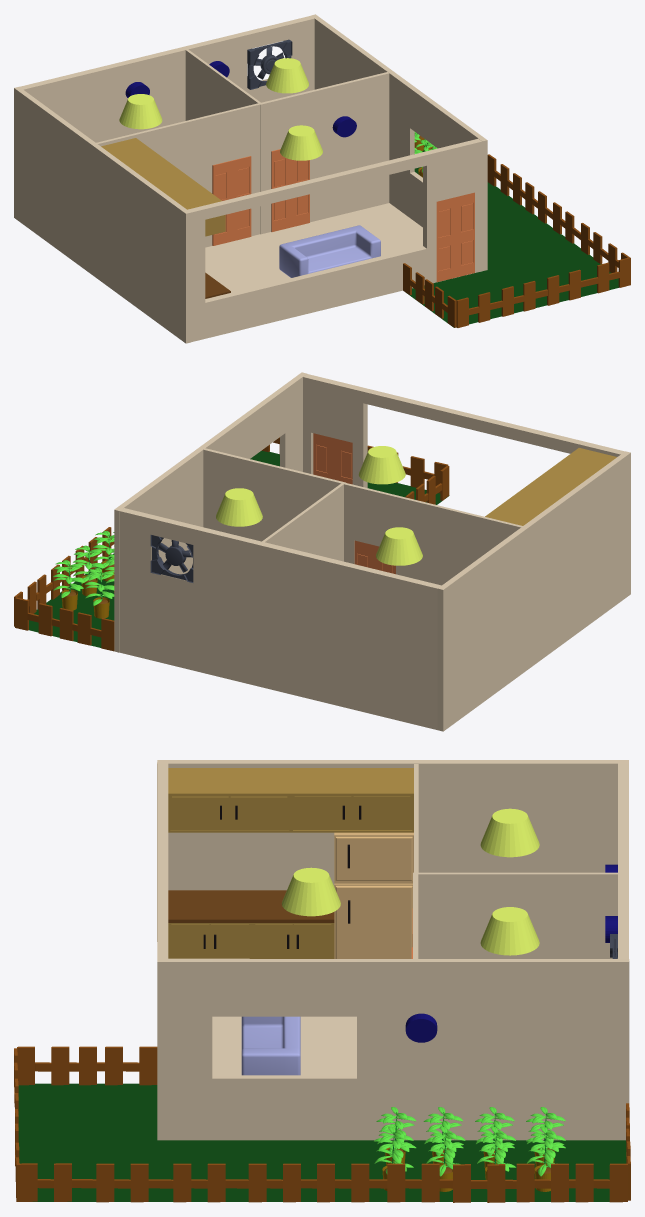
3 views of the same model, one above another, from view 1: azimuth 30°, elevation 25°; view 2: azimuth 150°, elevation 25°; view 3: azimuth 270°, elevation 25° (orthographic). The views are drawn at different scales.
Visible parts, largest first — view 1: wall, Cube.003, fence, sofa, Cube.009, doorLiving, doorBed, doorBath, LightBath, lightBed, lightLiving, Circle; view 2: wall, fence, Cube.009, Cube.003, doorLiving, lightLiving, LightBath, lightBed, tree4, tree8, Circle, doorBed (+3 smaller); view 3: wall, Cube.003, fence, Cube.009, Cube.028, Cube.023, sofa, lightBed, LightBath, lightLiving, tree8, tree6 (+7 smaller).
Boxes of the visible parts, x1,y1,x2,y2 form: wall: (14, 14, 487, 343); Cube.003: (407, 143, 618, 327); fence: (403, 154, 630, 327); sofa: (279, 225, 380, 277); Cube.009: (101, 138, 225, 236); doorLiving: (436, 192, 474, 282); doorBed: (212, 156, 251, 245); doorBath: (271, 149, 309, 231); LightBath: (266, 58, 308, 93); lightBed: (119, 94, 162, 129); lightLiving: (280, 125, 322, 160); Circle: (247, 39, 292, 89); wall: (114, 372, 630, 731); fence: (14, 437, 449, 651); Cube.009: (485, 448, 616, 525); Cube.003: (29, 450, 449, 647); doorLiving: (313, 433, 352, 484); lightLiving: (358, 446, 405, 484); LightBath: (216, 488, 262, 526); lightBed: (376, 527, 422, 565); tree4: (85, 568, 114, 618); tree8: (53, 560, 84, 610); Circle: (150, 535, 193, 582); doorBed: (354, 540, 395, 574); wall: (157, 760, 629, 1140); Cube.003: (18, 1083, 626, 1201); fence: (14, 1046, 630, 1202); Cube.009: (168, 768, 413, 832); Cube.028: (168, 890, 334, 958); Cube.023: (334, 832, 413, 958); sofa: (241, 1016, 300, 1075); lightBed: (480, 808, 539, 857); LightBath: (480, 907, 539, 955); lightLiving: (281, 867, 340, 916); tree8: (526, 1126, 565, 1191); tree6: (426, 1126, 465, 1191).
Size of the model in its own units: 39.78 by 12.51 by 39.22.
